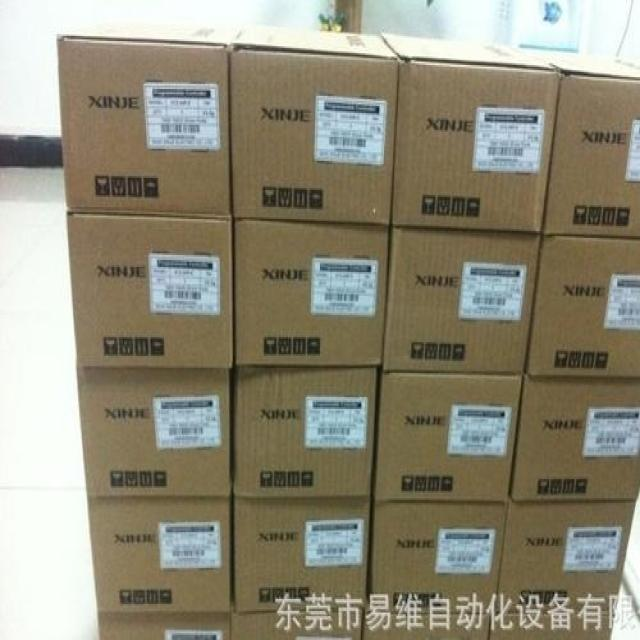box: (58, 16, 243, 217), (379, 33, 563, 235), (228, 27, 398, 226), (66, 214, 235, 367), (383, 226, 542, 373), (232, 218, 391, 364), (517, 49, 639, 236), (78, 366, 235, 499), (233, 364, 383, 503), (375, 371, 526, 503), (509, 372, 639, 502), (87, 497, 232, 613), (494, 500, 637, 615), (231, 497, 375, 610), (527, 236, 639, 378), (365, 503, 509, 613), (230, 607, 365, 638), (362, 607, 493, 638), (99, 610, 230, 638), (489, 612, 613, 638)
